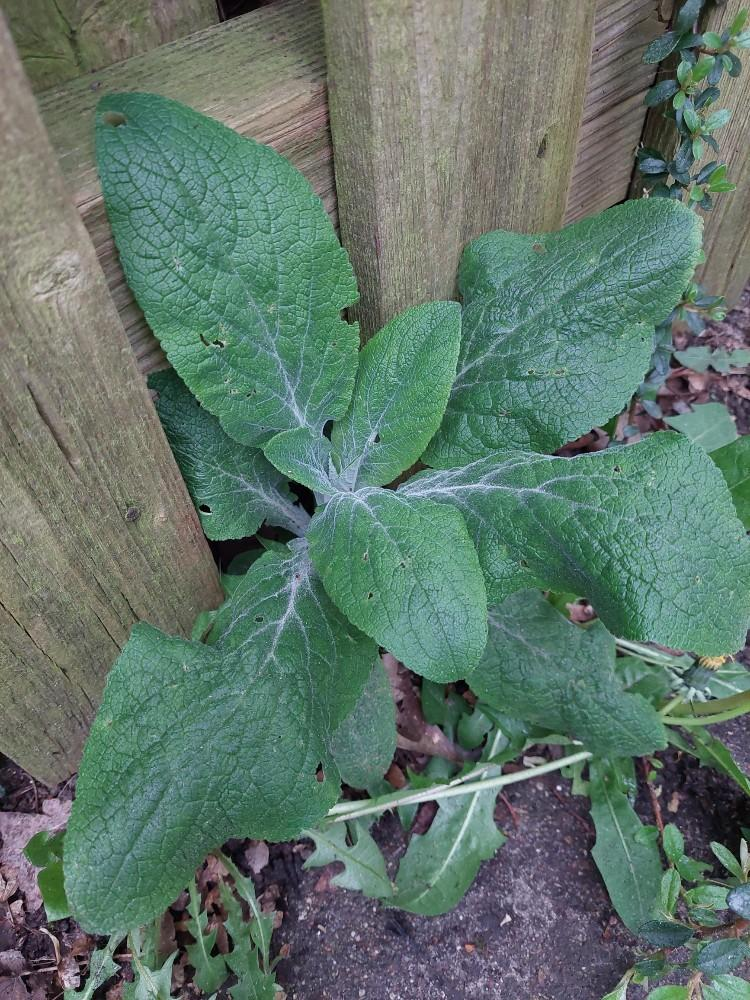Digitalis L: (63, 81, 750, 925)
